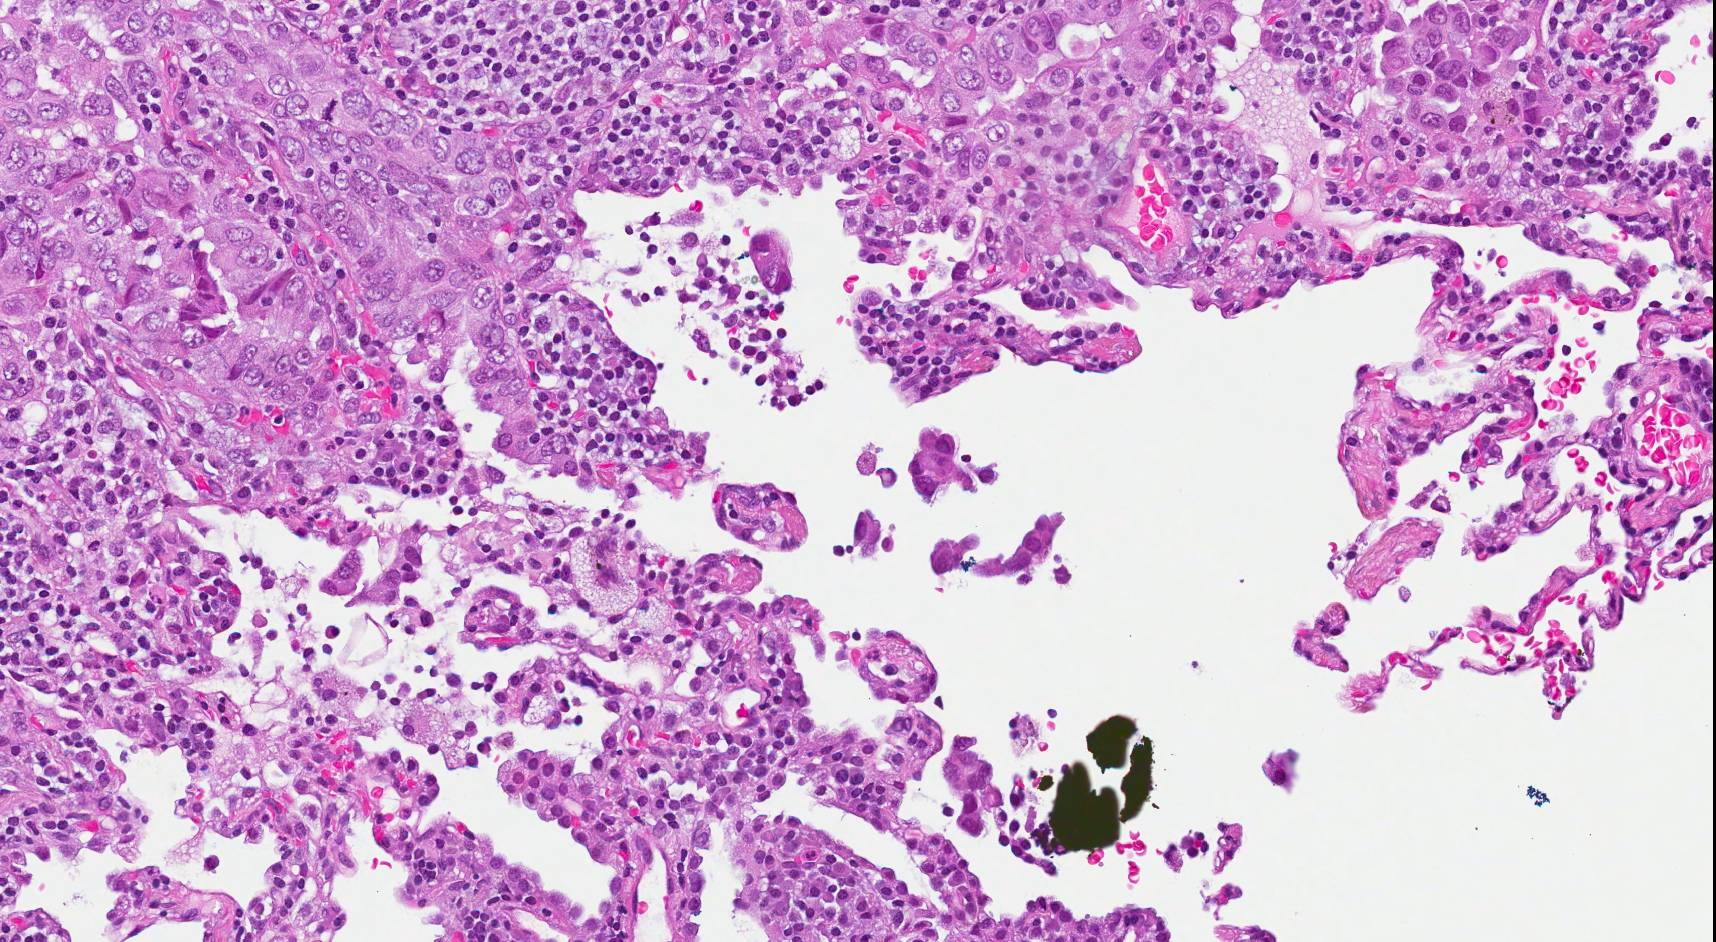stas: (311, 526, 431, 607), (951, 513, 1076, 589), (910, 423, 1001, 503), (942, 728, 1008, 838), (746, 225, 803, 299), (931, 533, 978, 579)
